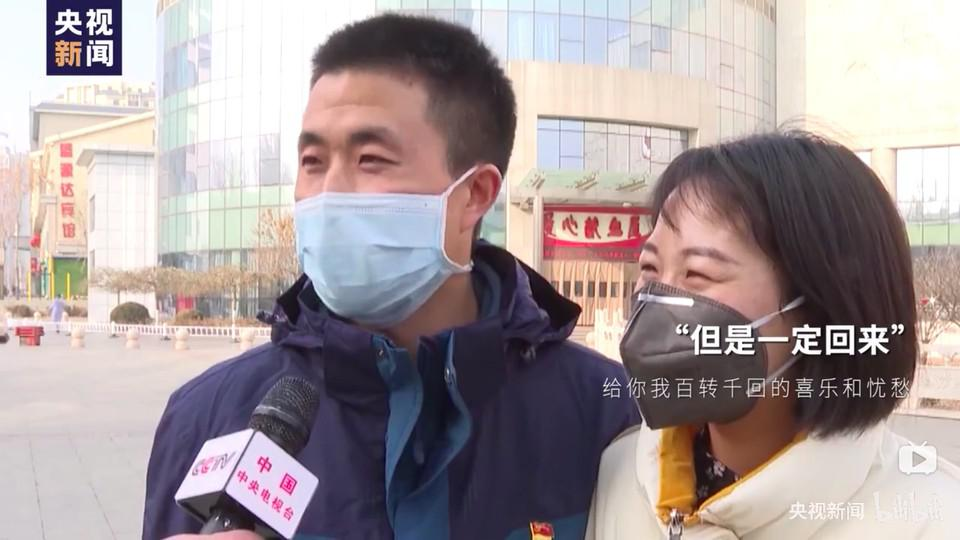OK: (295, 109, 454, 326), (629, 219, 774, 436)
